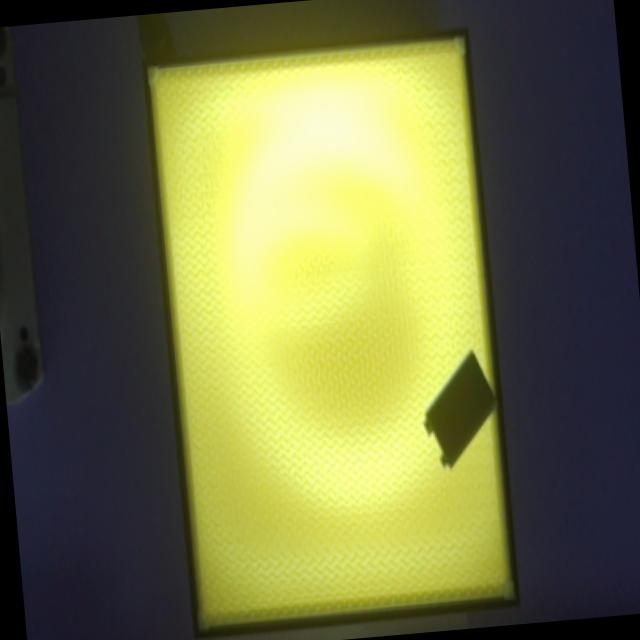bateria: (423, 350, 497, 468)
mesa: (142, 27, 520, 639)
